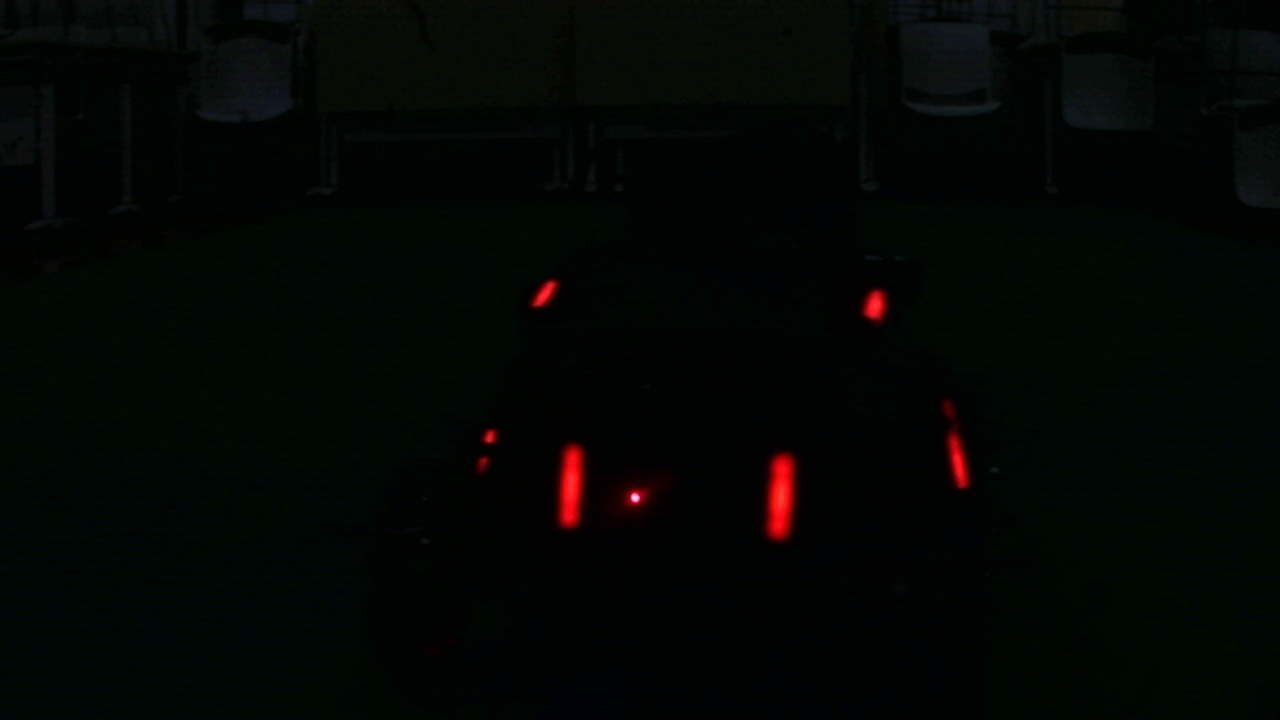lamp: (553, 436, 586, 532), (767, 435, 794, 544), (944, 417, 971, 485)
notpair1: (766, 419, 970, 545)
pair1: (556, 438, 797, 549)
